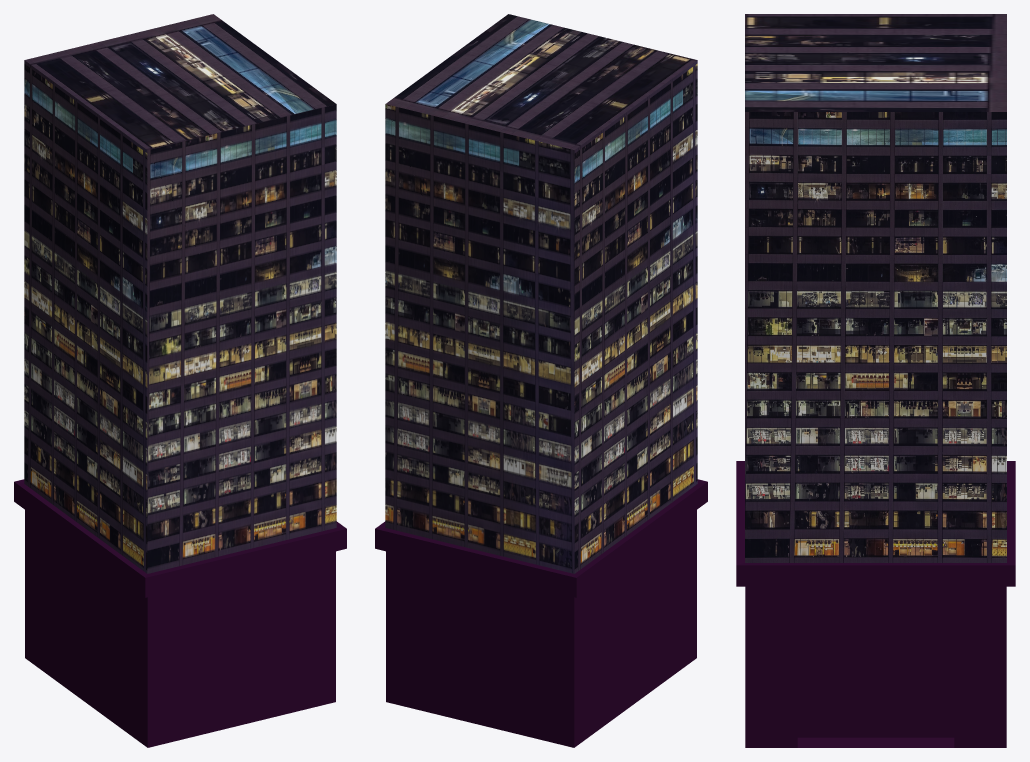
Rendered from citytest.fbx.
3 views of the same model, side by side, from view 1: azimuth 30°, elevation 25°; view 2: azimuth 150°, elevation 25°; view 3: azimuth 270°, elevation 25° (orthographic). The views are drawn at different scales.
Visible parts, largest first — view 1: Cube, Cube.001; view 2: Cube, Cube.001; view 3: Cube, Cube.001.
Part boxes in pixels (x1,y1,x2,y2): Cube: (24, 14, 336, 573); Cube.001: (14, 479, 346, 747); Cube: (385, 14, 697, 573); Cube.001: (375, 479, 707, 747); Cube: (745, 14, 1006, 562); Cube.001: (736, 461, 1015, 747).
Size of the model in its own units: 766 by 2172 by 865.
